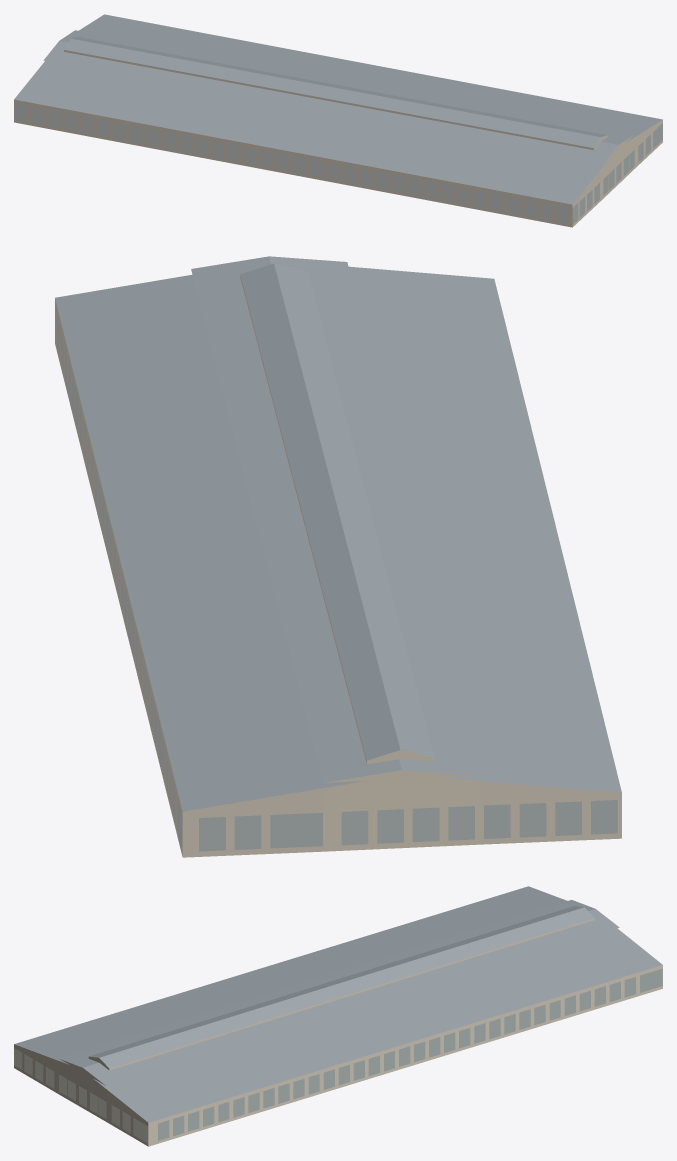
3 views of the same model, one above another, from view 1: azimuth 30°, elevation 25°; view 2: azimuth 150°, elevation 25°; view 3: azimuth 270°, elevation 25° (orthographic). The views are drawn at different scales.
Parts seen in each view (by area): view 1: roof, stone, window; view 2: roof, stone, window; view 3: roof, stone, window.
Part boxes in pixels (<box>): roof: <box>14,14,662,204</box>; stone: <box>14,50,662,227</box>; window: <box>16,103,662,224</box>; roof: <box>55,256,621,811</box>; stone: <box>55,275,621,857</box>; window: <box>57,314,617,851</box>; roof: <box>14,886,662,1122</box>; stone: <box>14,918,662,1146</box>; window: <box>14,968,662,1143</box>.
Bounding box in the file's own units: 213 × 19 × 246.
